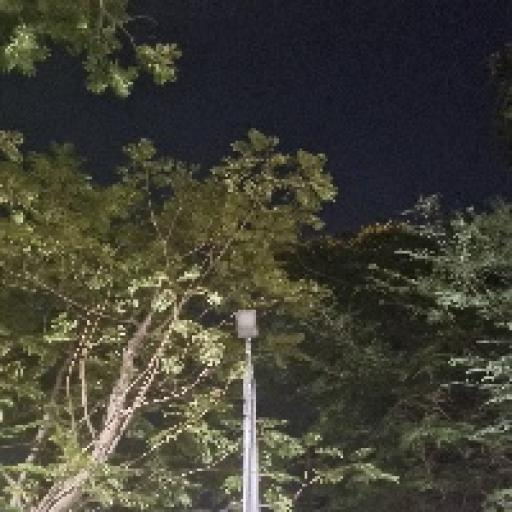Not Working: (222, 300, 272, 356)
